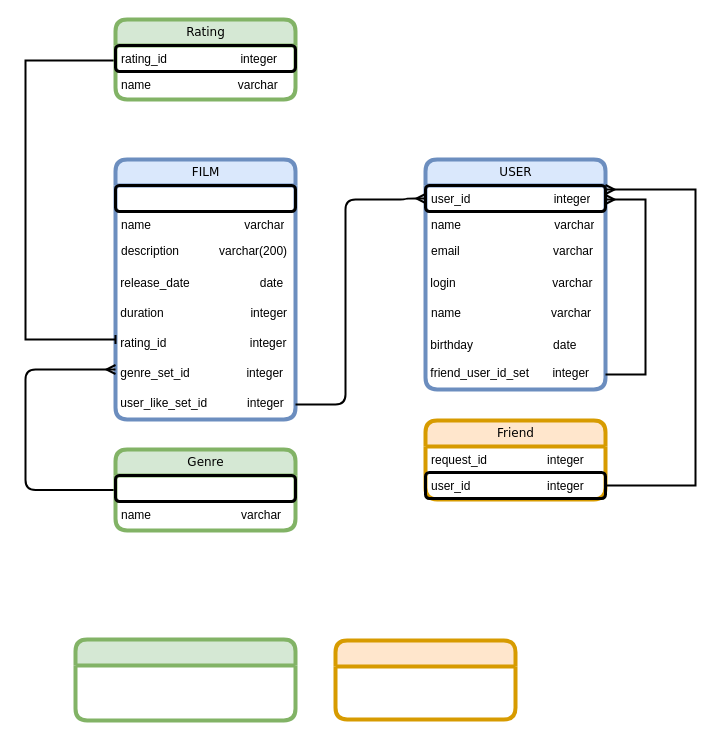
Image size: 721x739. Some labels were removed from this diagram. Each missing label, with the box of its shape:
film_id integer: (114, 184, 296, 212)
genre_id integer: (114, 474, 296, 502)
Вспомогательные модели: (73, 637, 297, 722)
Метод: (333, 638, 517, 721)
